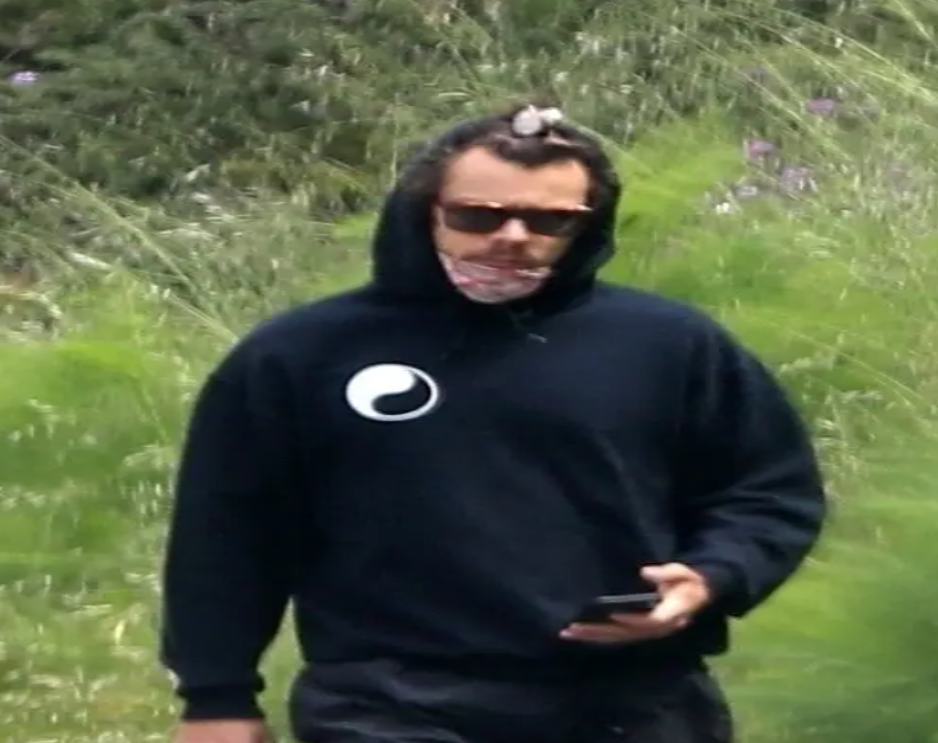mask_weared_incorrect: (400, 126, 619, 312)
